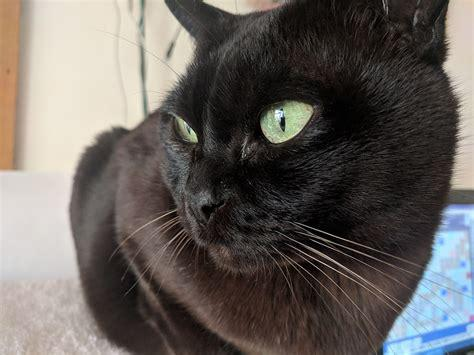cat: (69, 1, 458, 355)
